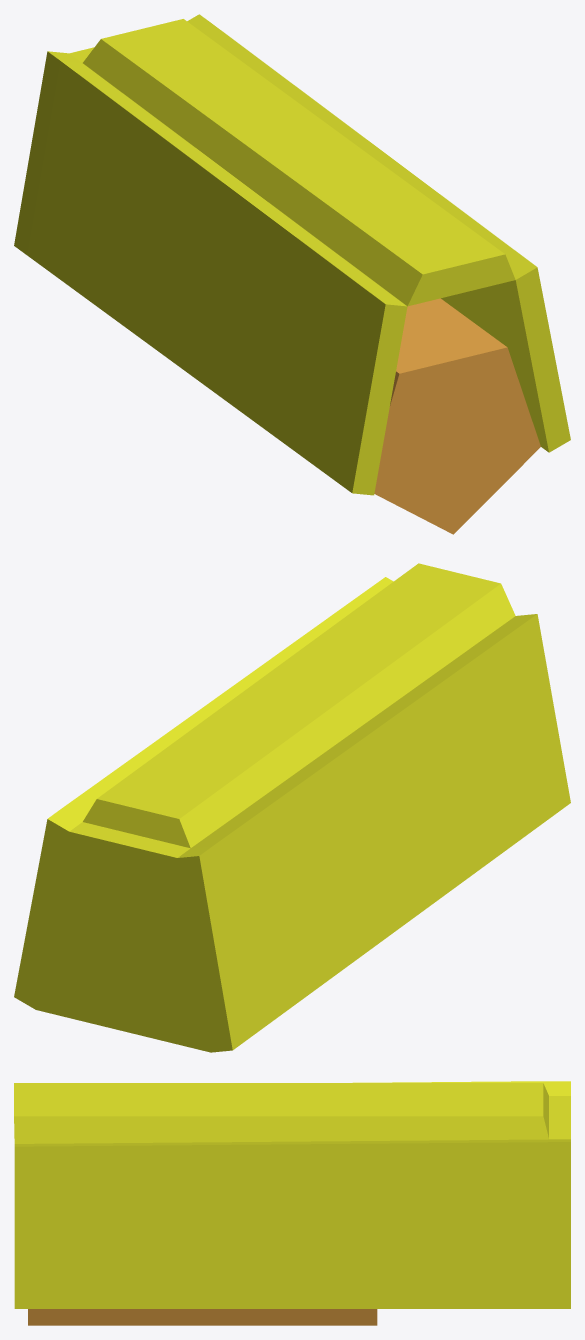
Rendered from PilastroRubik.fbx.
3 renders of one model, top to bottom at view 1: azimuth 30°, elevation 25°; view 2: azimuth 150°, elevation 25°; view 3: azimuth 270°, elevation 25°, orthographic. The views are drawn at different scales.
Visible parts, largest first — view 1: Cube.009; view 2: Cube.009; view 3: Cube.009.
Part boxes in pixels (left/top/right/bottom): Cube.009: left=14, top=14, right=570, bottom=534; Cube.009: left=14, top=563, right=570, bottom=1052; Cube.009: left=14, top=1081, right=570, bottom=1325.
Bounding box in the file's own units: 0.9511 × 1.15 × 2.55.
